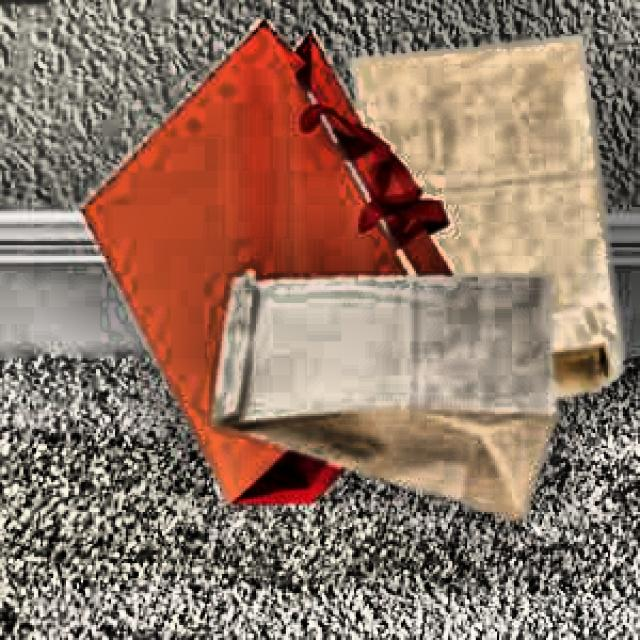Paper-bag: (70, 17, 467, 551), (330, 33, 628, 416), (198, 257, 579, 523)
